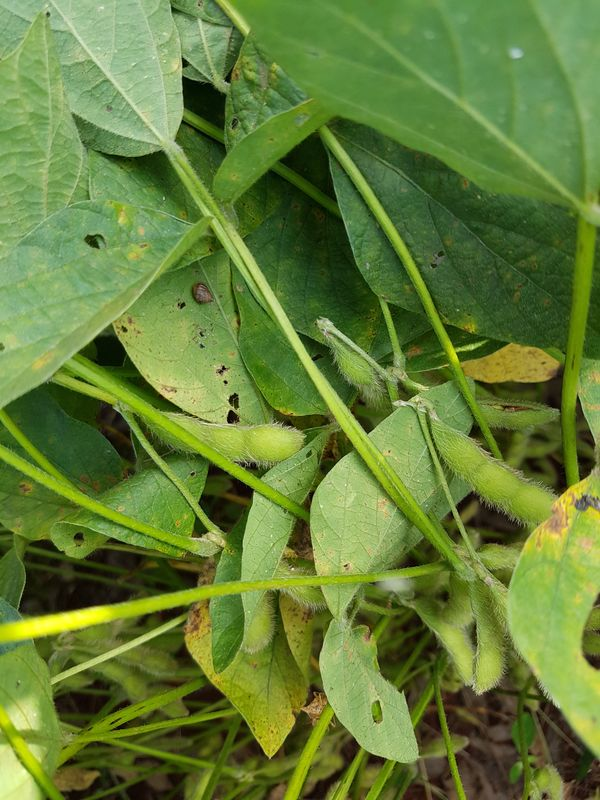Euschistus_heros_adulto: (292, 687, 347, 735)
Gastropoda: (185, 279, 219, 309)
